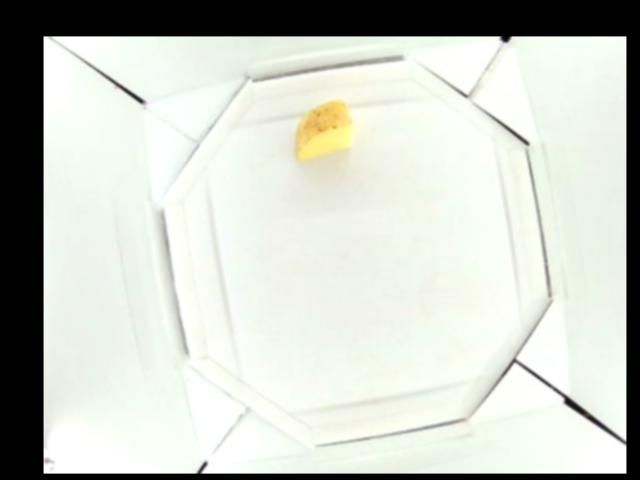Potato: (295, 101, 355, 159)
